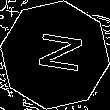N_W: (27, 31, 83, 79)
